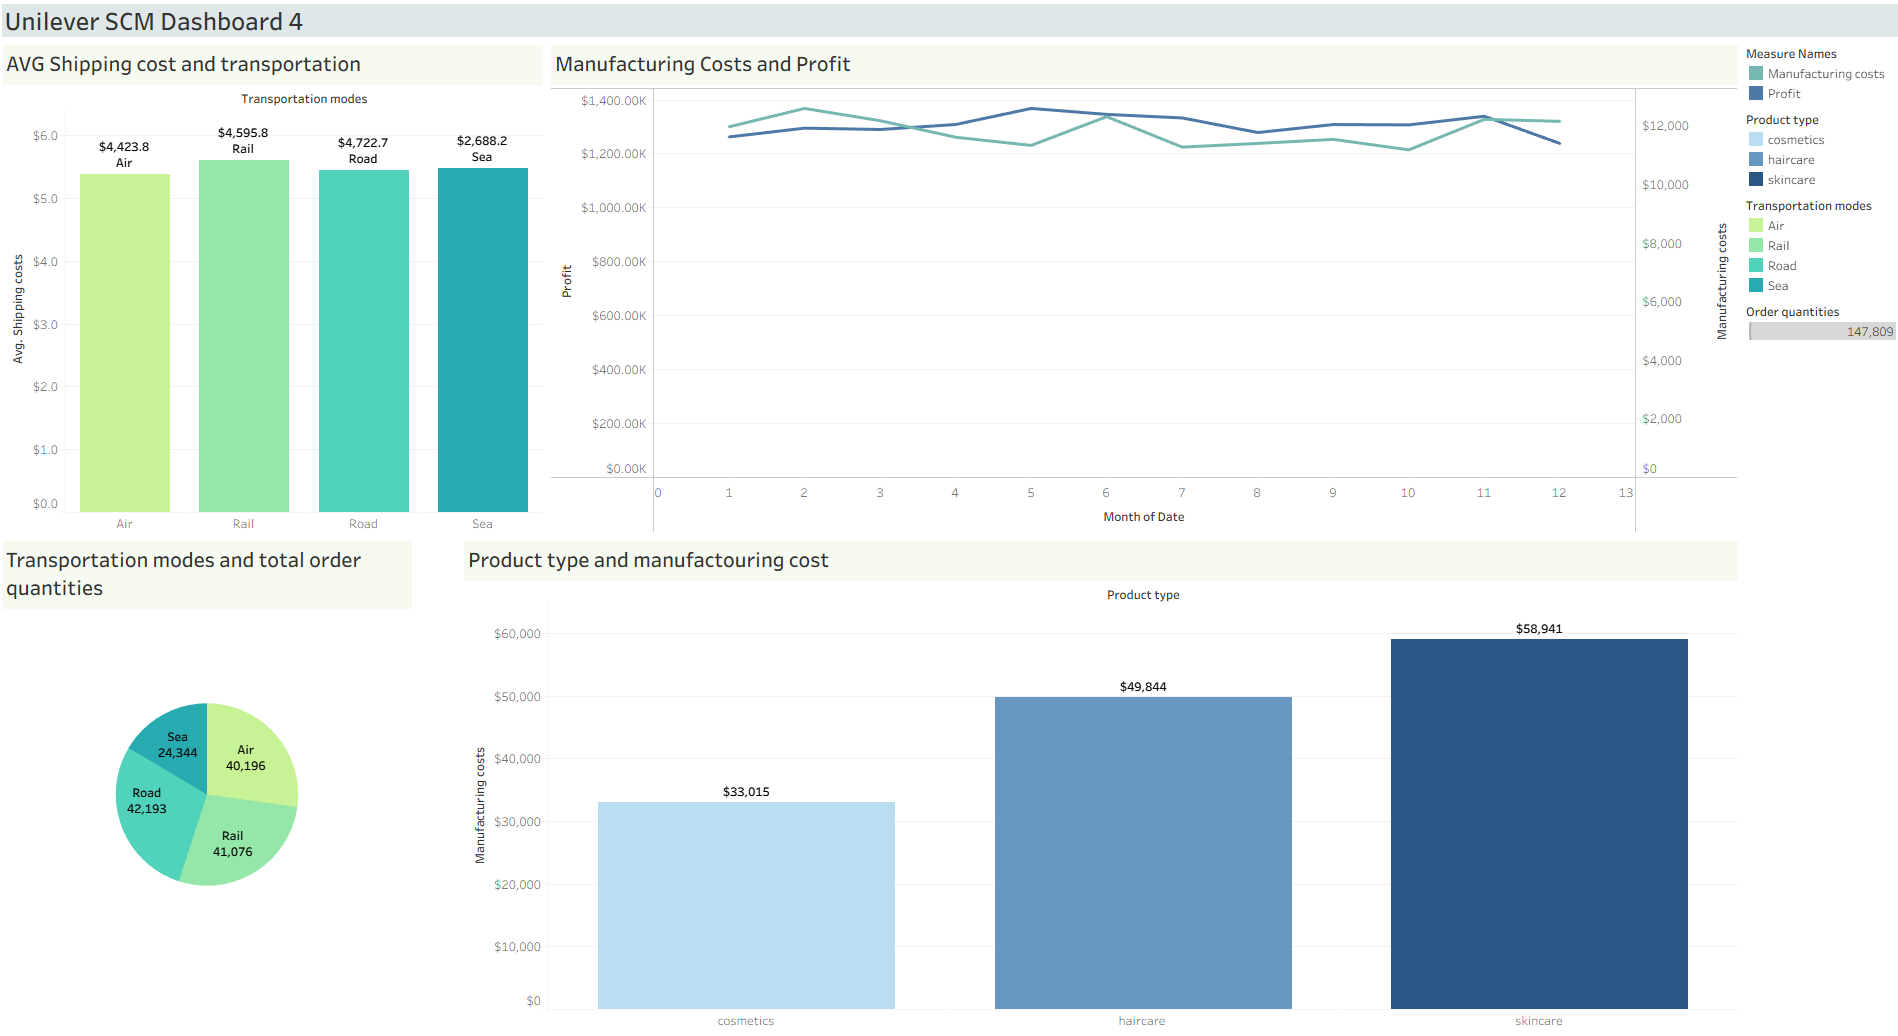

The dashboard page shown, as its layout file describes it:
{"tool":"tableau","page":{"name":"Unilever SCM Dashboard 4","canvas":[1000,1000],"units":"permille","ordinal":3},"visuals":[{"type":"title","box":[4.2,8.9,991.6,45.8]},{"type":"worksheet","title":"AVG Shipping cost and transportation","mark":"Automatic","rows":["Shipping costs"],"cols":["Transportation modes"],"box":[4.2,54.7,285.8,468.2]},{"type":"worksheet","title":"Manufacturing Costs and Profit","mark":"Automatic","rows":["Calculation_0313685051486210","Manufacturing costs"],"cols":["Date"],"box":[290,54.7,621.3,468.2]},{"type":"legend","title":"Manufacturing Costs and Profit","param":"[federated.0toibn90woc6wi15i6tn81vprhmb].[:Measure Names]","box":[911.3,54.7,84.5,73.7]},{"type":"legend","title":"Product type and manufactouring cost","param":"[federated.0toibn90woc6wi15i6tn81vprhmb].[none:Product type:nk]","box":[911.3,128.3,84.5,96]},{"type":"legend","title":"AVG Shipping cost and transportation","param":"[federated.0toibn90woc6wi15i6tn81vprhmb].[none:Transportation modes:nk]","box":[911.3,224.3,84.5,118.3]},{"type":"legend","title":"Transportation modes and total order quantities","param":"[federated.0toibn90woc6wi15i6tn81vprhmb].[sum:Order quantities:qk]","box":[911.3,342.6,84.5,51.3]},{"type":"worksheet","title":"Transportation modes and total order quantities","mark":"Pie","box":[4.2,522.9,240.2,468.2]},{"type":"worksheet","title":"Product type and manufactouring cost","mark":"Automatic","rows":["Manufacturing costs"],"cols":["Product type"],"box":[244.4,522.9,666.9,468.2]}]}

Visuals, with their boxes on the dashboard's canvas, which has no fixed pixel size, in thousandths of its width and height (x1, y1, x2, y2). These are canvas units, not pixel positions in the 1898x1036 screenshot, which may show the page scaled, cropped or inside an application window:
title: select_region(4, 9, 996, 55)
"AVG Shipping cost and transportation" worksheet: select_region(4, 55, 290, 523)
"Manufacturing Costs and Profit" worksheet: select_region(290, 55, 911, 523)
"Manufacturing Costs and Profit" legend: select_region(911, 55, 996, 128)
"Product type and manufactouring cost" legend: select_region(911, 128, 996, 224)
"AVG Shipping cost and transportation" legend: select_region(911, 224, 996, 343)
"Transportation modes and total order quantities" legend: select_region(911, 343, 996, 394)
"Transportation modes and total order quantities" worksheet (Pie marks): select_region(4, 523, 244, 991)
"Product type and manufactouring cost" worksheet: select_region(244, 523, 911, 991)
